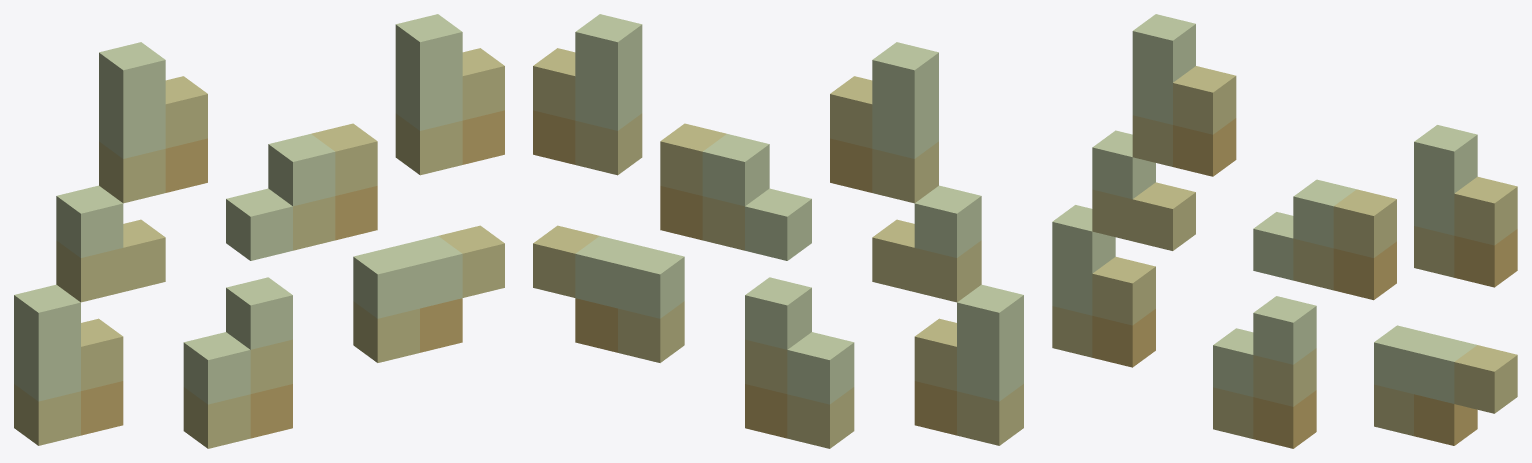
File: Pumpkin Seeds.glb
The picture shows the model from 3 angles, left to right: view 1: azimuth 30°, elevation 25°; view 2: azimuth 150°, elevation 25°; view 3: azimuth 330°, elevation 25°; orthographic projection. The views are drawn at different scales.
Visible parts, largest first — view 1: Untitled; view 2: Untitled; view 3: Untitled.
Part boxes in pixels (box(x1,y1,x2,y2)): Untitled: box(14, 14, 504, 448); Untitled: box(533, 14, 1023, 448); Untitled: box(1052, 14, 1517, 448).
Size of the model in its own units: 5.5 by 4.5 by 0.5.
1 material, 1 textured.
